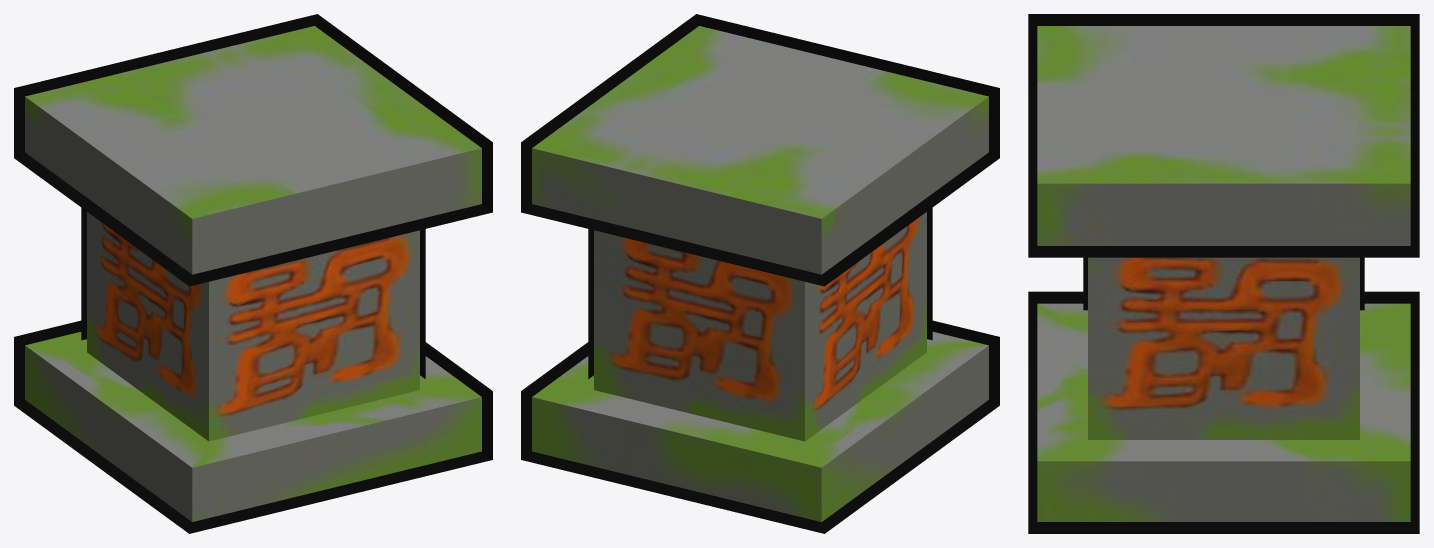
The model's file is env_small_piller.glb.
3 views of the same model, side by side, from view 1: azimuth 30°, elevation 25°; view 2: azimuth 150°, elevation 25°; view 3: azimuth 270°, elevation 25° (orthographic). The views are drawn at different scales.
Parts seen in each view (by area): view 1: Cube.001; view 2: Cube.001; view 3: Cube.001.
Boxes of the visible parts, box(x1,y1,x2,y2) form: Cube.001: box(14, 14, 492, 533); Cube.001: box(521, 14, 999, 533); Cube.001: box(1028, 14, 1419, 533).
Bounding box in the file's own units: 0.4043 × 0.4043 × 0.4043.
Materials: 2 (1 with a texture image).
